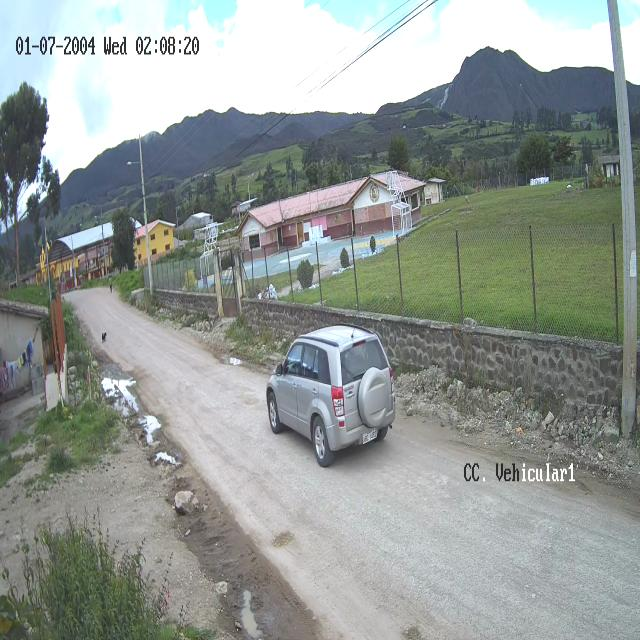SUV: (266, 327, 398, 468)
